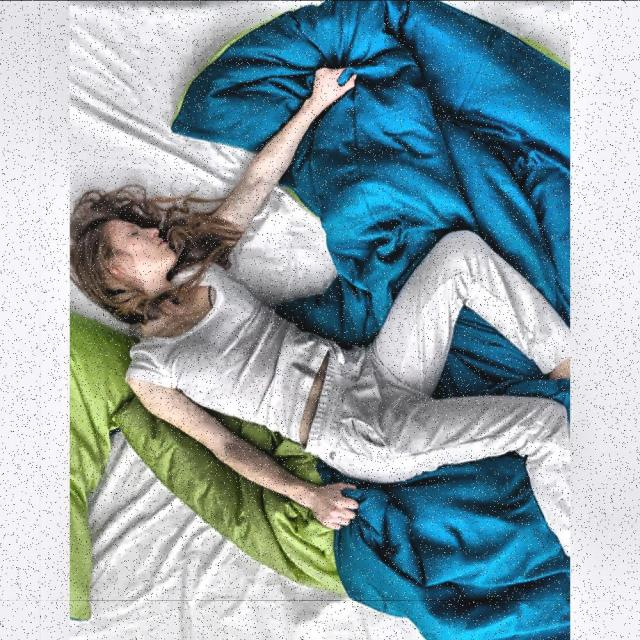Supine: (72, 69, 569, 547)
